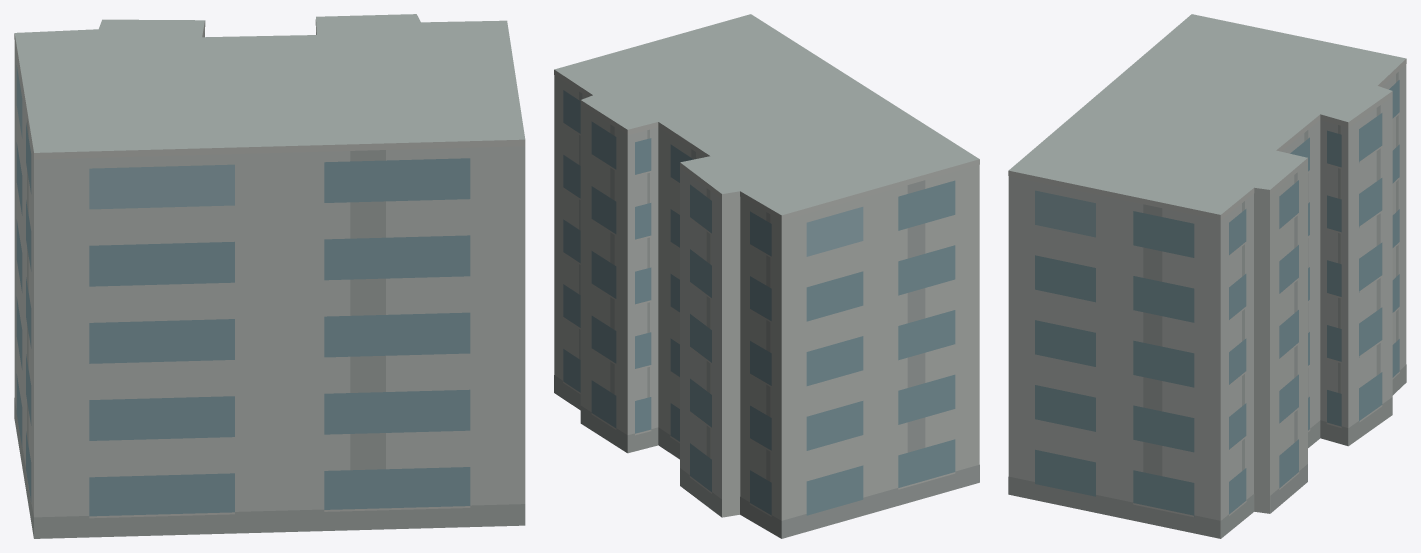
The model's file is survey-upis-32883550.glb.
3 views of the same model, side by side, from view 1: azimuth 30°, elevation 25°; view 2: azimuth 150°, elevation 25°; view 3: azimuth 270°, elevation 25° (orthographic). The views are drawn at different scales.
Visible parts, largest first — view 1: survey-upis-32883550.tmp; view 2: survey-upis-32883550.tmp; view 3: survey-upis-32883550.tmp.
Boxes of the visible parts, x1,y1,x2,y2 form: survey-upis-32883550.tmp: (14, 14, 525, 538); survey-upis-32883550.tmp: (554, 14, 979, 538); survey-upis-32883550.tmp: (1008, 14, 1406, 538).
Bounding box in the file's own units: 19.03 × 14.3 × 15.93.
